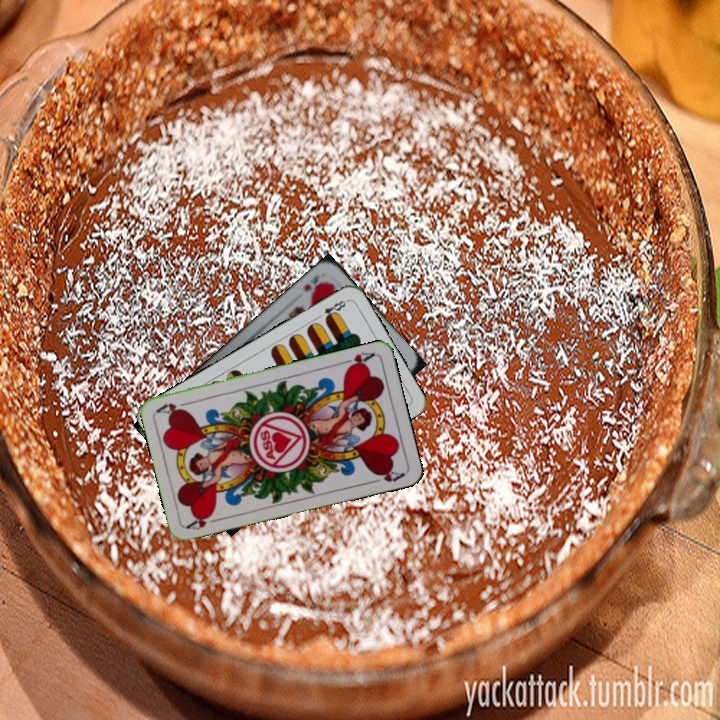E8: (313, 296, 350, 324)
HA: (337, 348, 377, 372), (183, 509, 223, 533)
HK: (300, 271, 329, 298)
